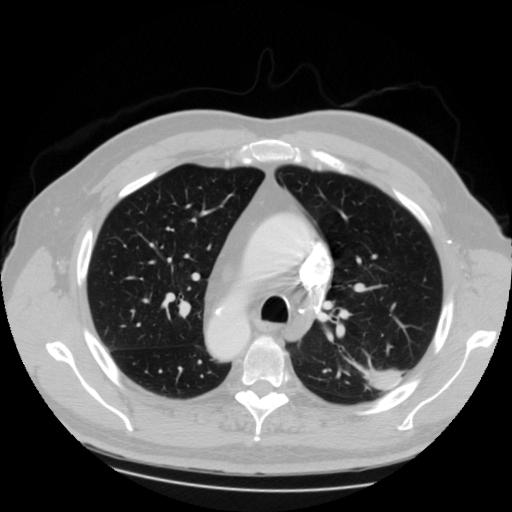nodule: (372, 365, 402, 395)
